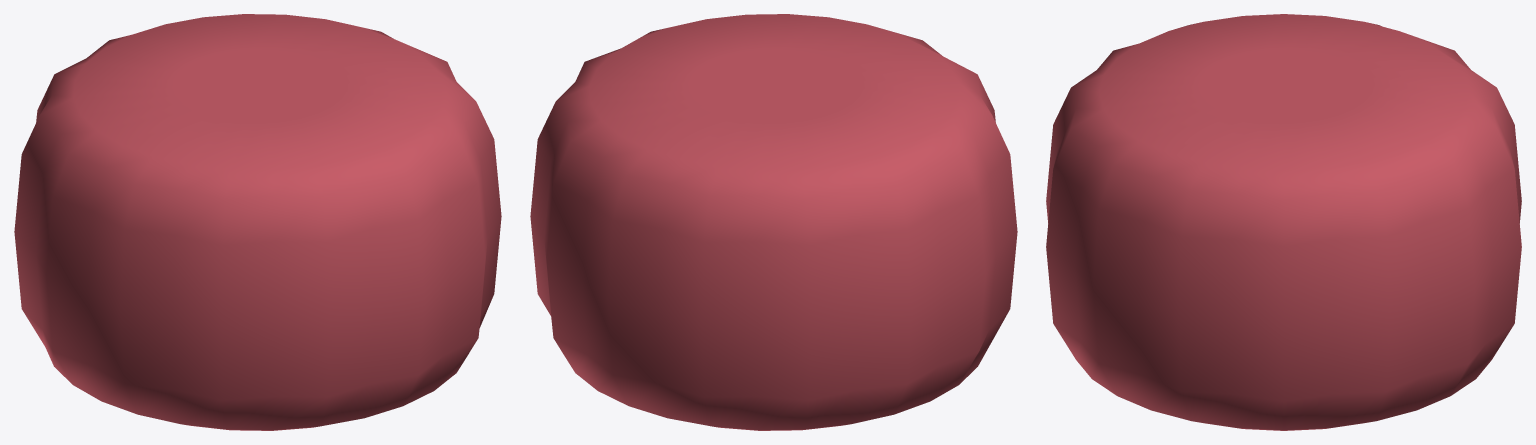
Rendered from pouf_round.fbx.
3 views of the same model, side by side, from view 1: azimuth 30°, elevation 25°; view 2: azimuth 150°, elevation 25°; view 3: azimuth 270°, elevation 25° (orthographic).
Parts seen in each view (by area): view 1: pouf_round_LOD0; view 2: pouf_round_LOD0; view 3: pouf_round_LOD0.
Boxes of the visible parts, x1=… form: pouf_round_LOD0: x1=14, y1=14, x2=501, y2=430; pouf_round_LOD0: x1=530, y1=14, x2=1017, y2=430; pouf_round_LOD0: x1=1046, y1=14, x2=1521, y2=430.
Size of what is drawn, in the model's own units: 0.6867 by 0.415 by 0.6695.
Materials: 1 (1 with a texture image).
